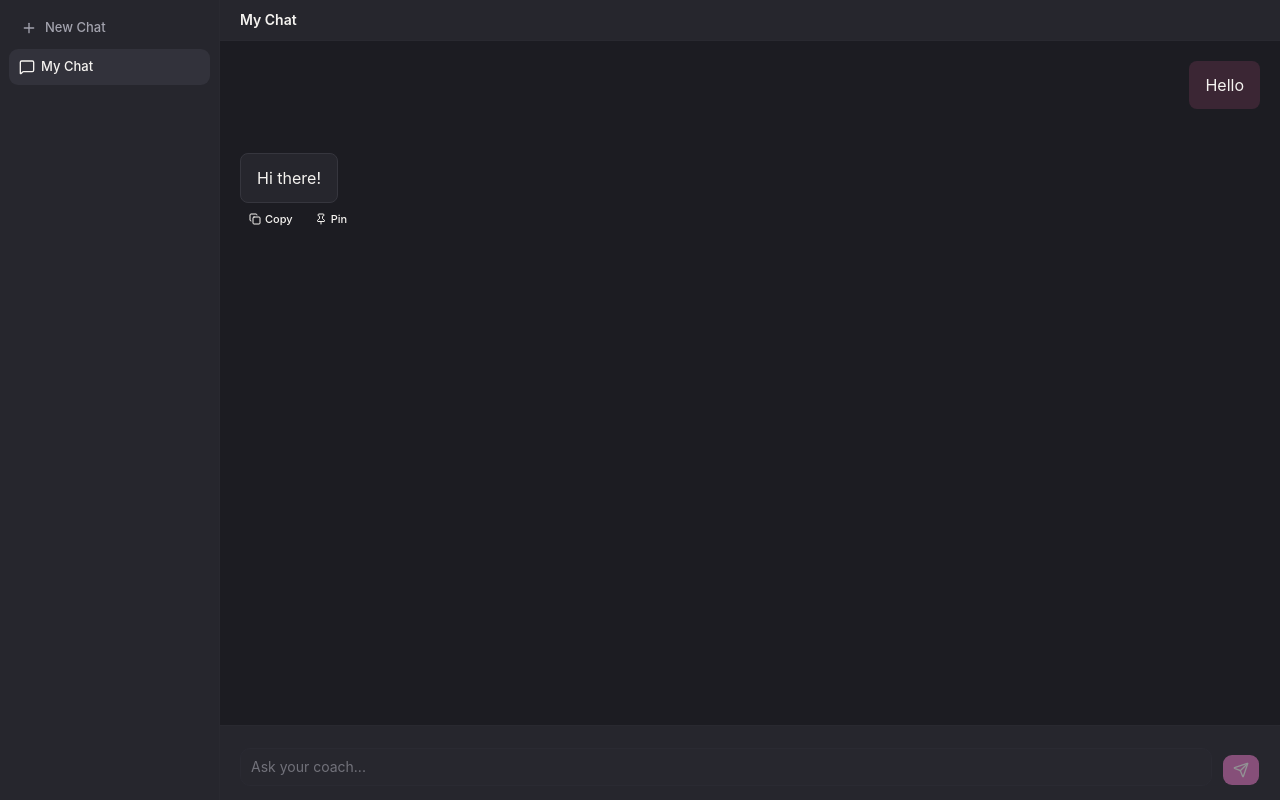
Scenario: Chat event listener regression › chunk events do not produce doubled content
Type "test" into the text box with placeholder "Ask your coach...". click: (726, 767)
box: [240,748,1212,786]
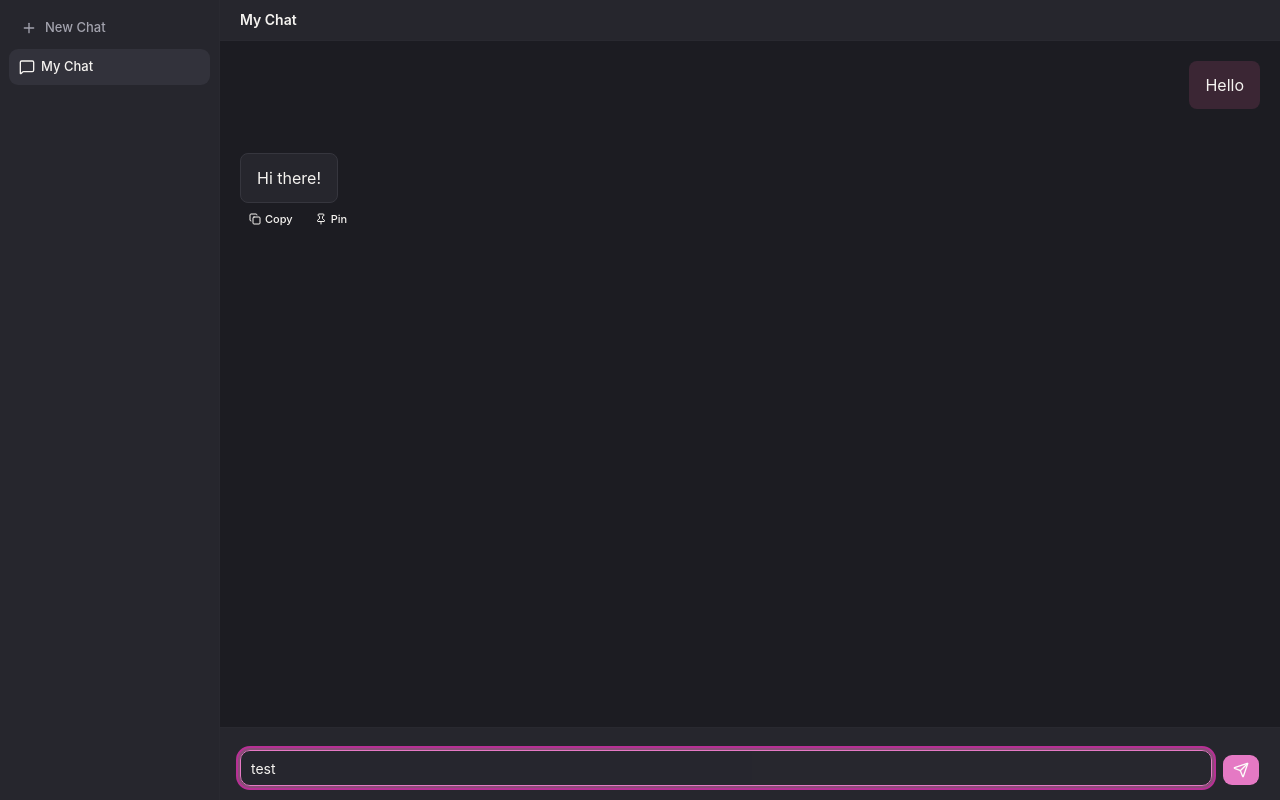
Press Enter
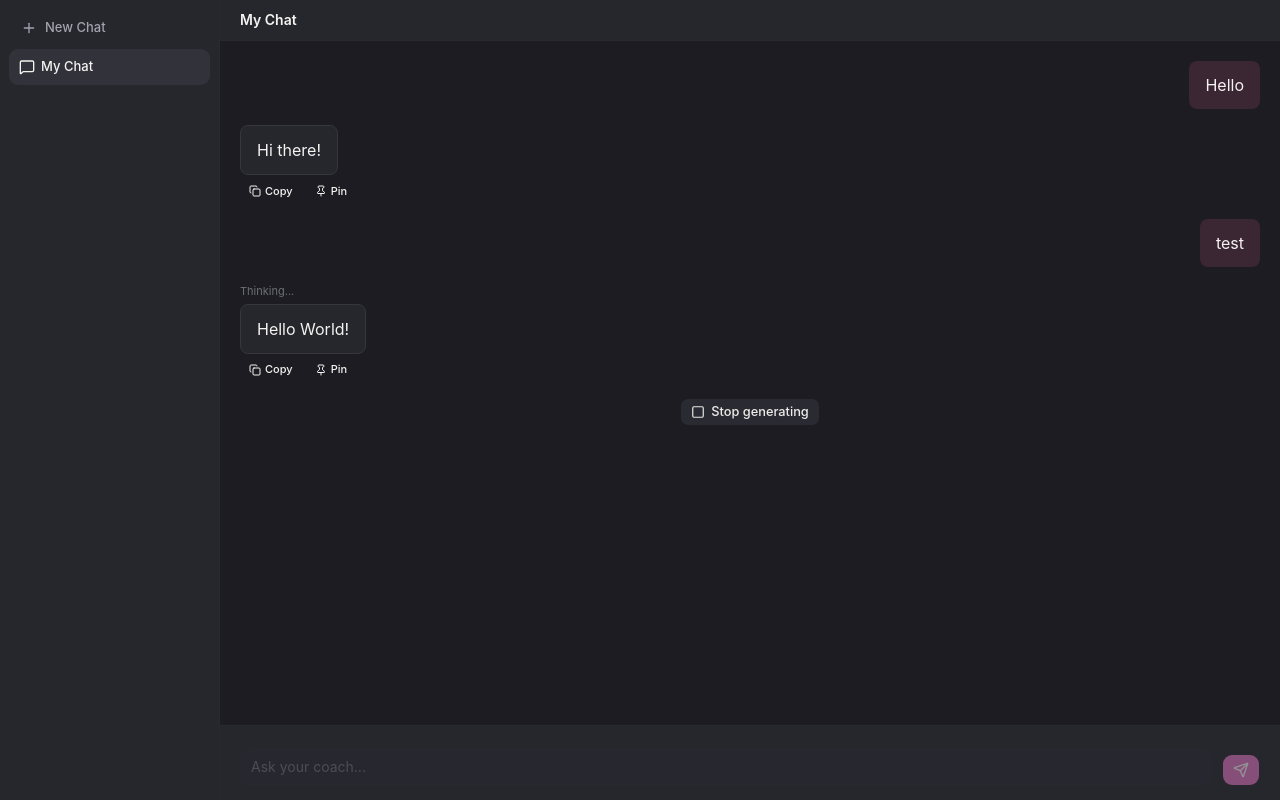
Now the text "Hello World!" is shown once, box [257,316,349,340]
